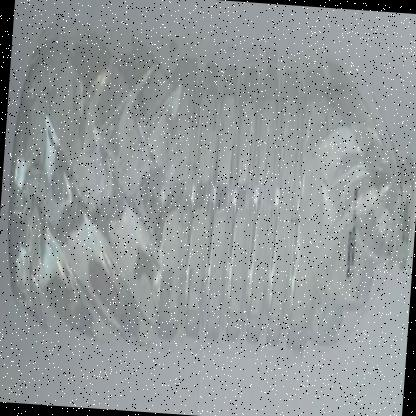bottle cap: (291, 42, 416, 393)
